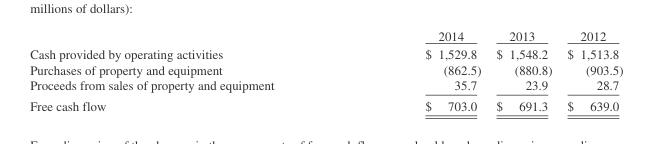table: (29, 28, 622, 112)
table column: (29, 28, 348, 112), (348, 28, 488, 112), (488, 28, 559, 112), (559, 28, 622, 112)
table column header: (29, 28, 622, 44)
table row: (29, 77, 622, 95), (29, 44, 622, 61), (29, 95, 622, 112), (29, 28, 622, 44), (29, 61, 622, 77)
